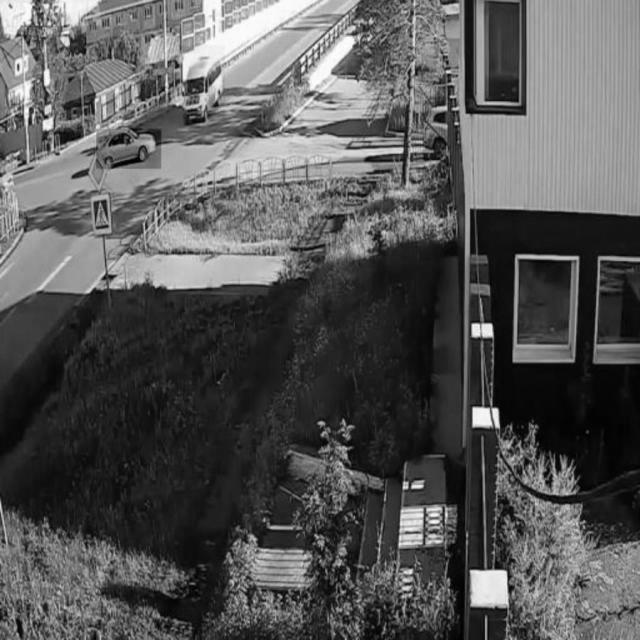vehicle: (182, 45, 226, 126), (96, 129, 160, 169)
